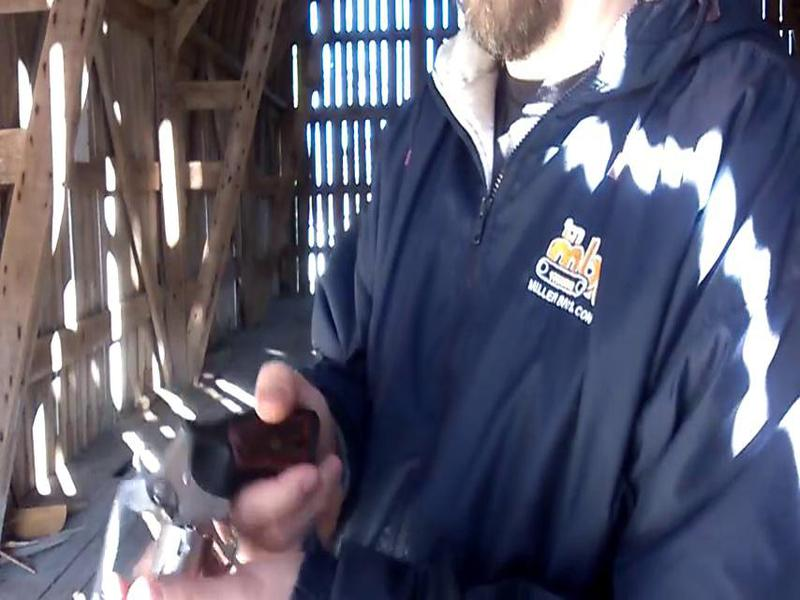Revolver: (58, 374, 345, 600)
